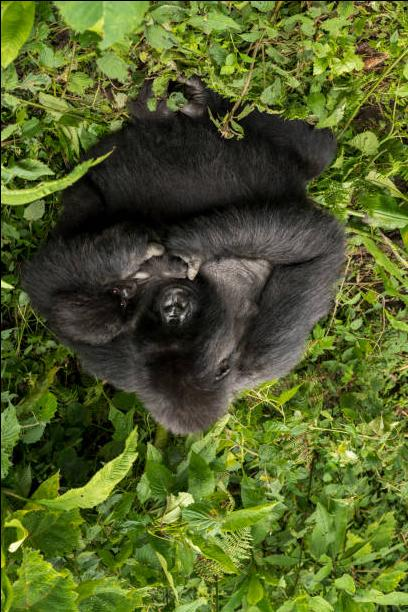goriile_montagne: (23, 112, 346, 447)
